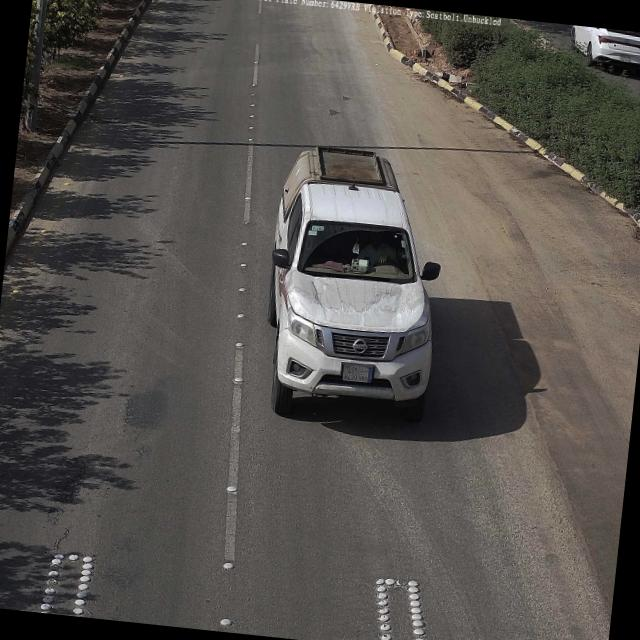person_without_seatbelt: (357, 230, 402, 265)
